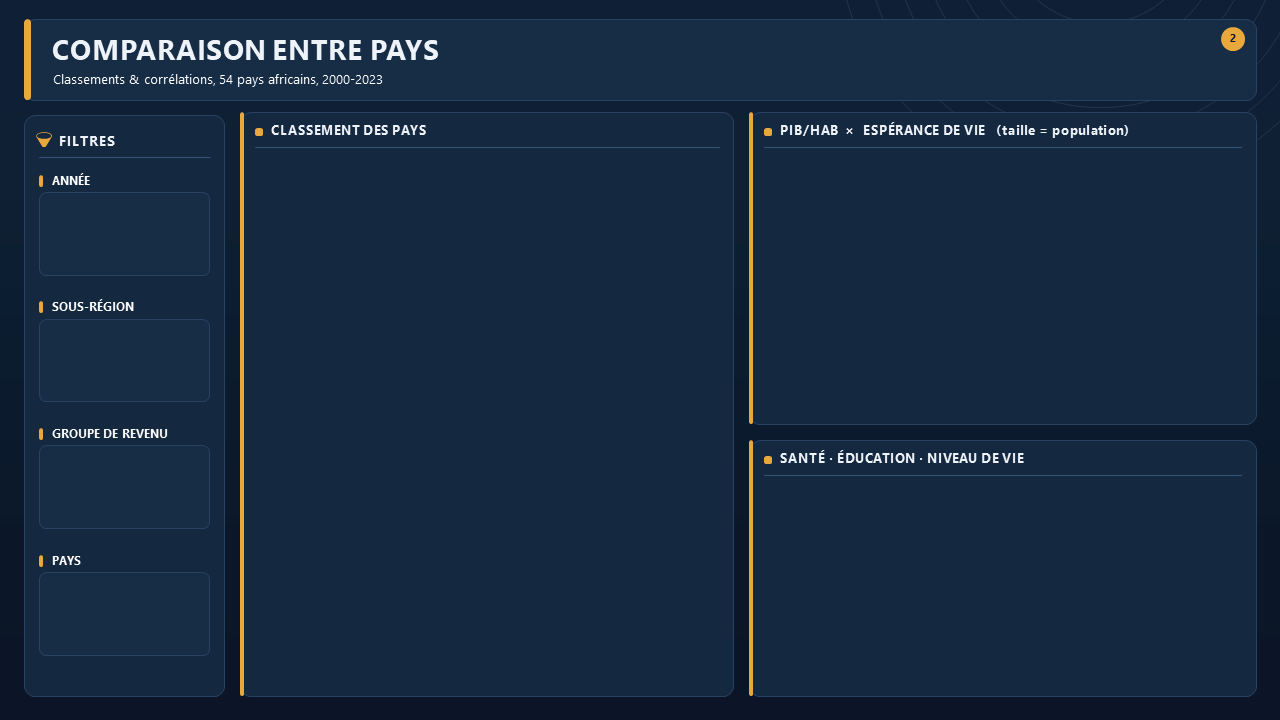

The page's visual inventory and layout, read from the dashboard file:
{"tool":"powerbi","page":{"name":"Page 2","canvas":[1280,720],"ordinal":1},"visuals":[{"type":"slicer","fields":{"Values":["FaitAfrique.Year"]},"box":[33.6,190.2,173.4,78.3],"z":0},{"type":"slicer","fields":{"Values":["FaitAfrique.SubRegion"]},"box":[33.6,311.3,173.4,85.8],"z":1000},{"type":"slicer","fields":{"Values":["FaitAfrique.IncomeGroupFR"]},"box":[33.3,448.5,172.7,86.4],"z":2000},{"type":"slicer","fields":{"Values":["FaitAfrique.Country"]},"box":[32.8,571.9,173.4,85.9],"z":3000},{"type":"image","box":[1125,10.9,75,87.5],"z":4000},{"type":"barChart","fields":{"Category":["FaitAfrique.Country"],"Y":["_Mesures.Espérance de vie (dernière année)"]},"box":[247.7,147.7,481.5,540],"z":5000},{"type":"scatterChart","fields":{"Category":["FaitAfrique.Country"],"Series":["FaitAfrique.SubRegion"],"Size":["_Mesures.Population (dernière année)"],"X":["_Mesures.PIB par habitant (dernière année)"],"Y":["_Mesures.Espérance de vie (dernière année)"]},"box":[753.8,147.7,500,270.8],"z":6000},{"type":"pivotTable","fields":{"Rows":["FaitAfrique.Country"],"Values":["_Mesures.Espérance de vie (dernière année)","_Mesures.Scolarisation primaire (dernière année)","_Mesures.Accès électricité (dernière année)"]},"box":[753.8,475.4,500,212.3],"z":7000}]}

Visuals, with their boxes in screenshot pixels (x1, y1, x2, y2), scaled from the page's 1280x720 canvas onto the 1280x720 screenshot:
slicer - FaitAfrique.Year: 34/190/207/268
slicer - FaitAfrique.SubRegion: 34/311/207/397
slicer - FaitAfrique.IncomeGroupFR: 33/448/206/535
slicer - FaitAfrique.Country: 33/572/206/658
image: 1125/11/1200/98
barChart - FaitAfrique.Country x _Mesures.Espérance de vie (dernière année): 248/148/729/688
scatterChart - FaitAfrique.Country x FaitAfrique.SubRegion: 754/148/1254/418
pivotTable - FaitAfrique.Country x _Mesures.Espérance de vie (dernière année): 754/475/1254/688
